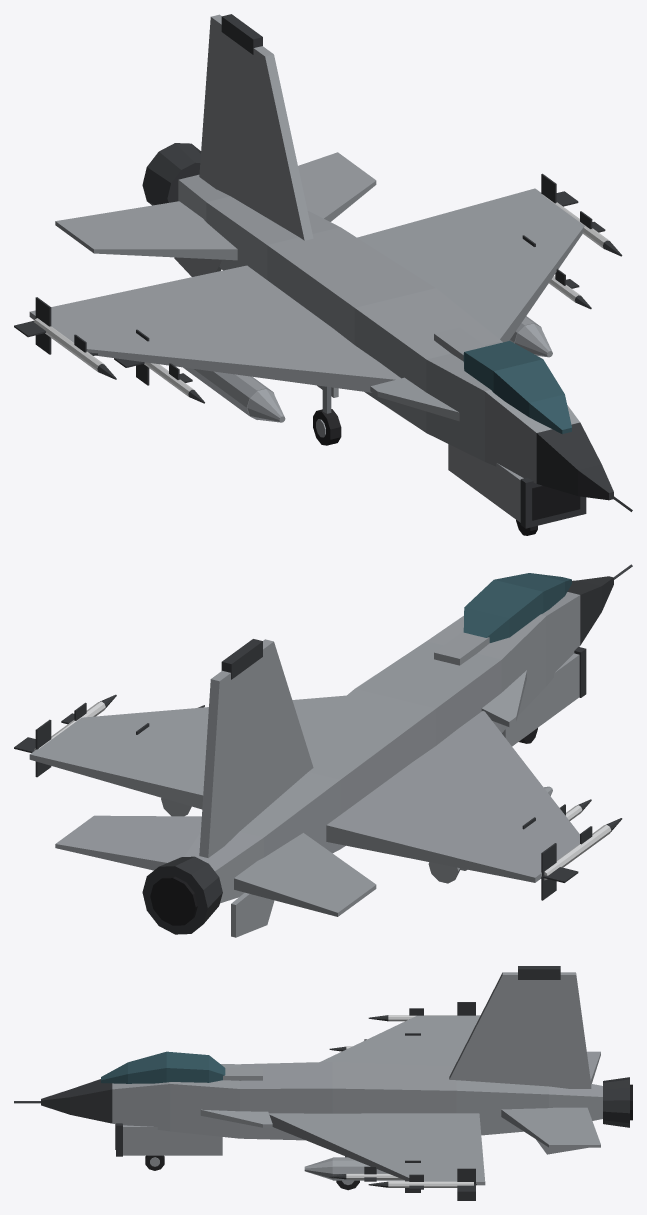
File: Unit_Fighter.obj
The picture shows the model from 3 angles, top to bottom: view 1: azimuth 30°, elevation 25°; view 2: azimuth 150°, elevation 25°; view 3: azimuth 270°, elevation 25°; orthographic projection. The views are drawn at different scales.
Size of the model in its own units: 11.11 by 5.77 by 16.03.
